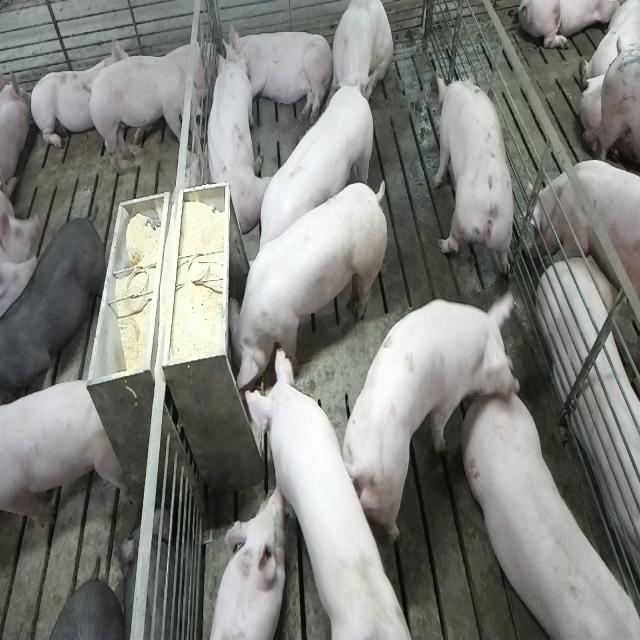Feeding: (241, 348, 431, 640), (222, 173, 386, 407)
Lateral_lying: (538, 233, 640, 592), (222, 20, 334, 126)
Sitting: (329, 0, 394, 116)
Standing: (344, 294, 526, 544), (466, 387, 640, 640), (250, 78, 378, 278), (1, 376, 129, 538), (2, 216, 106, 412), (432, 70, 518, 280), (86, 48, 212, 182), (533, 162, 640, 302)
Sternal_lying: (202, 42, 266, 234), (202, 486, 282, 638), (30, 32, 124, 154)
